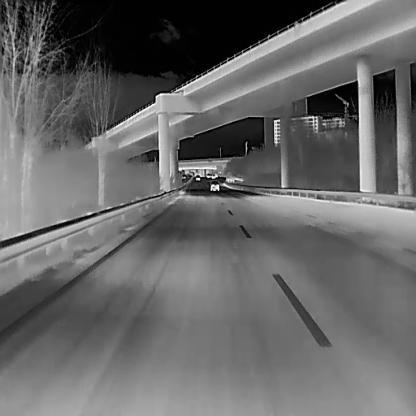car: (208, 180, 218, 190), (195, 174, 200, 179), (206, 172, 211, 177)
